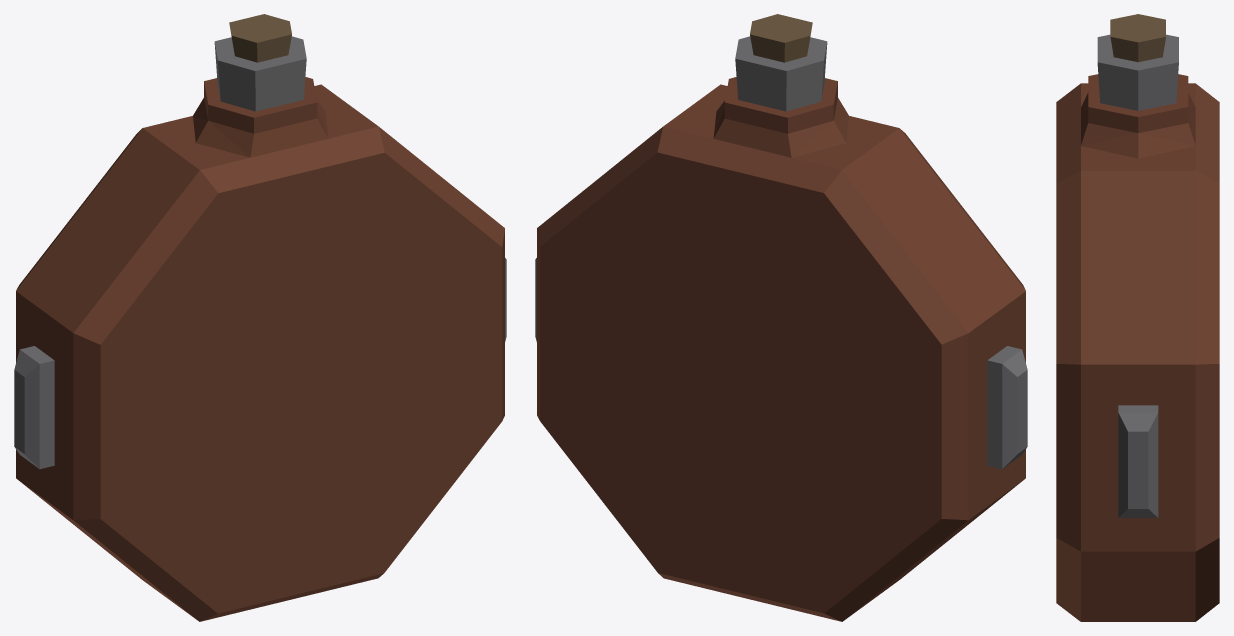
File: SM_Item_Canteen_01.gltf
3 views of the same model, side by side, from view 1: azimuth 30°, elevation 25°; view 2: azimuth 150°, elevation 25°; view 3: azimuth 270°, elevation 25° (orthographic).
Visible parts, largest first — view 1: SM_Item_Canteen_01; view 2: SM_Item_Canteen_01; view 3: SM_Item_Canteen_01.
Part boxes in pixels (<box>): SM_Item_Canteen_01: <box>14,14,506,621</box>; SM_Item_Canteen_01: <box>535,14,1027,621</box>; SM_Item_Canteen_01: <box>1056,14,1219,621</box>.
Size of the model in its own units: 0.1975 by 0.2156 by 0.0579.
1 material, 1 textured.
